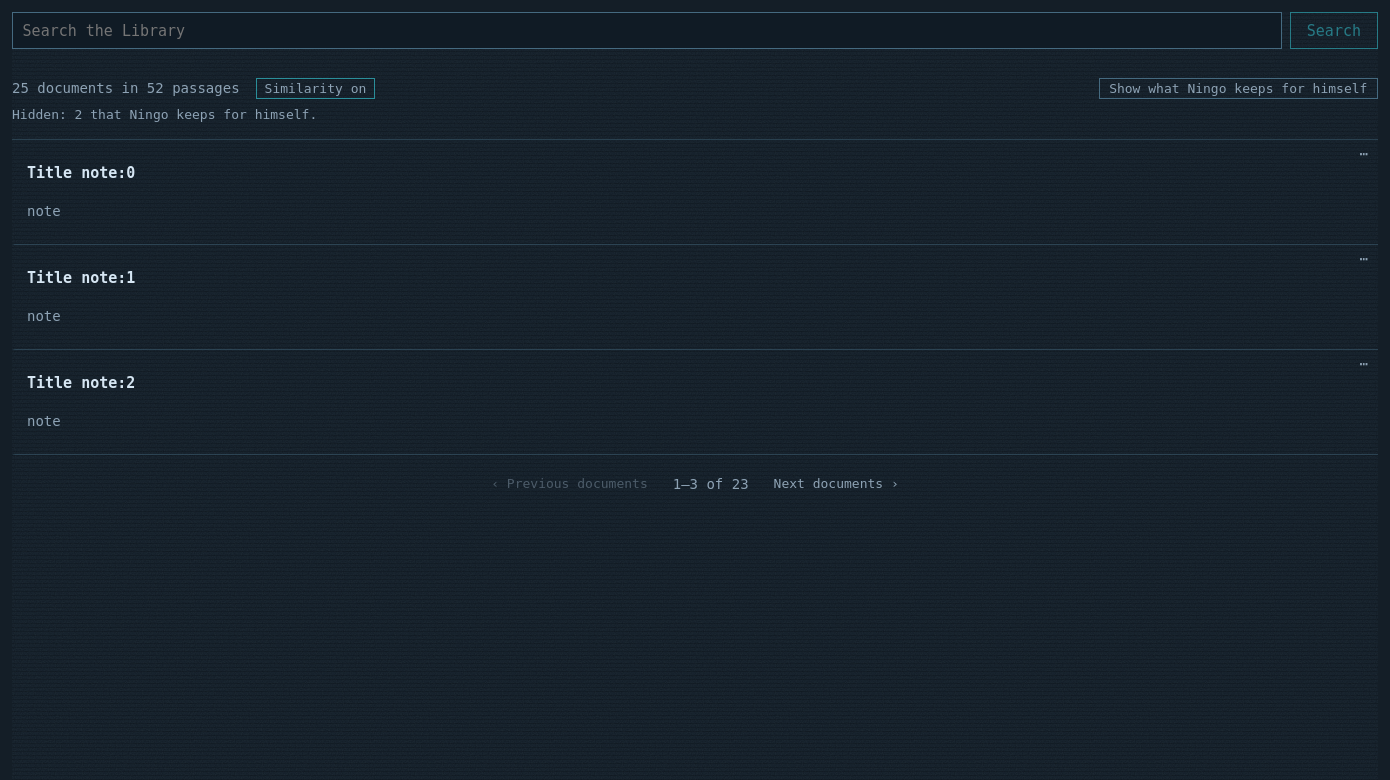
Test: what the count includes that the list leaves out › explains the difference while the filter is off, and not once it is on or when there is none
Expected: the text "25 documents in 52 passages" is shown, top-left (12, 77), bottom-right (240, 100)
Expected: the text "Hidden: 2 that Ningo keeps for himself." is shown, top-left (12, 107), bottom-right (317, 122)
Click the button "Show what Ningo keeps for himself" at [1238, 88], box top-left (1098, 78), bottom-right (1378, 99)
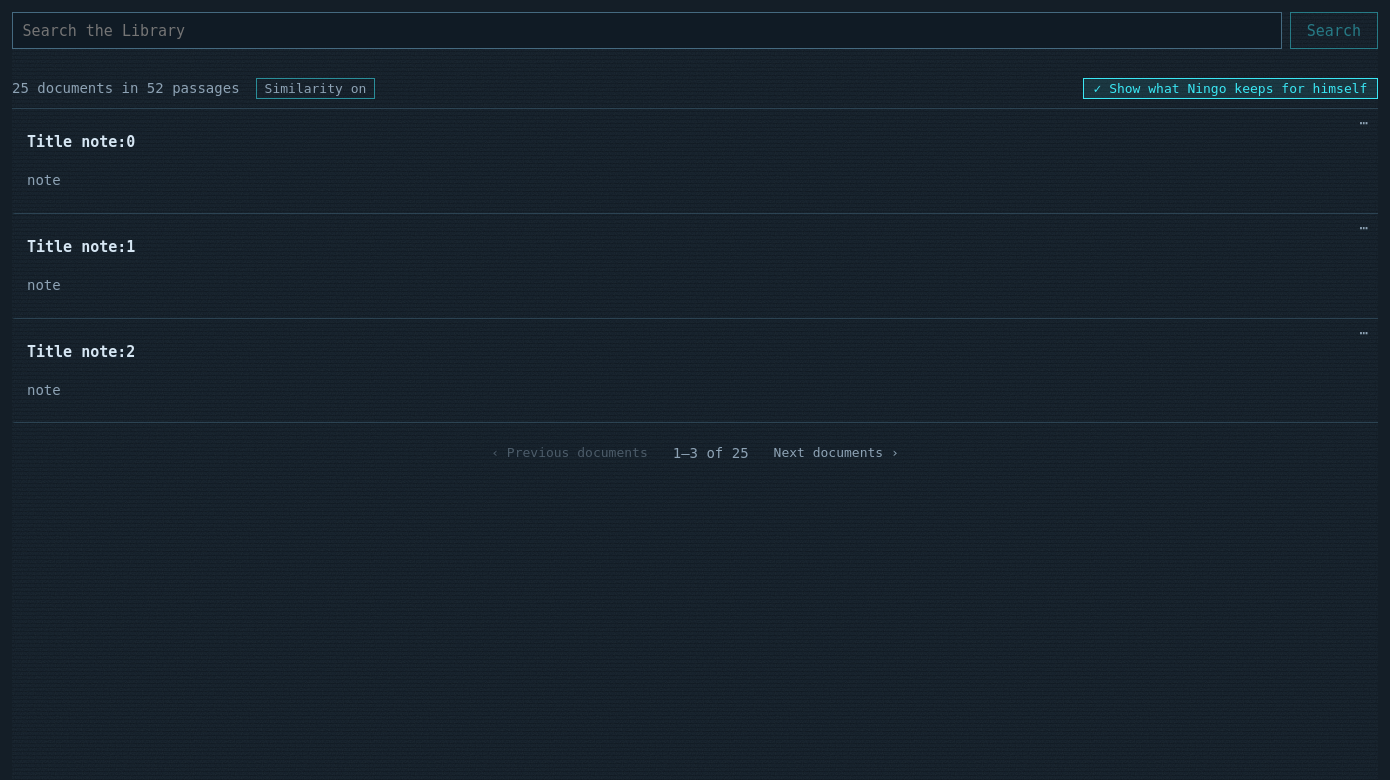
Now the text "Hidden:" is gone
Now the button "✓ Show what Ningo keeps for himself" is shown, box top-left (1083, 78), bottom-right (1378, 99)
